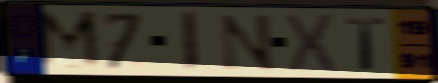7: (104, 11, 144, 70)
I: (179, 11, 200, 73)
M: (37, 8, 105, 71)
N: (219, 12, 277, 72)
T: (343, 16, 388, 71)
X: (285, 12, 337, 75)
